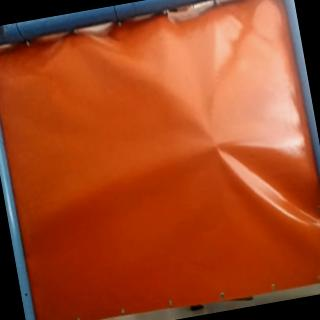Hit-hRxx: (211, 136, 230, 154)
